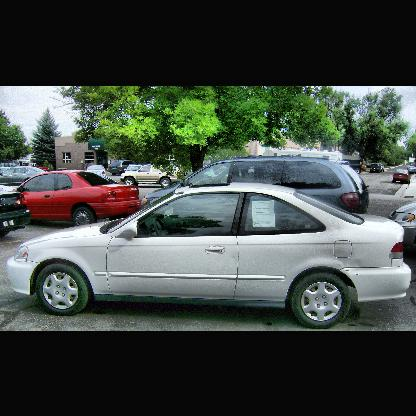Plymouth Neon Coupe 1999: (4, 181, 414, 327)
